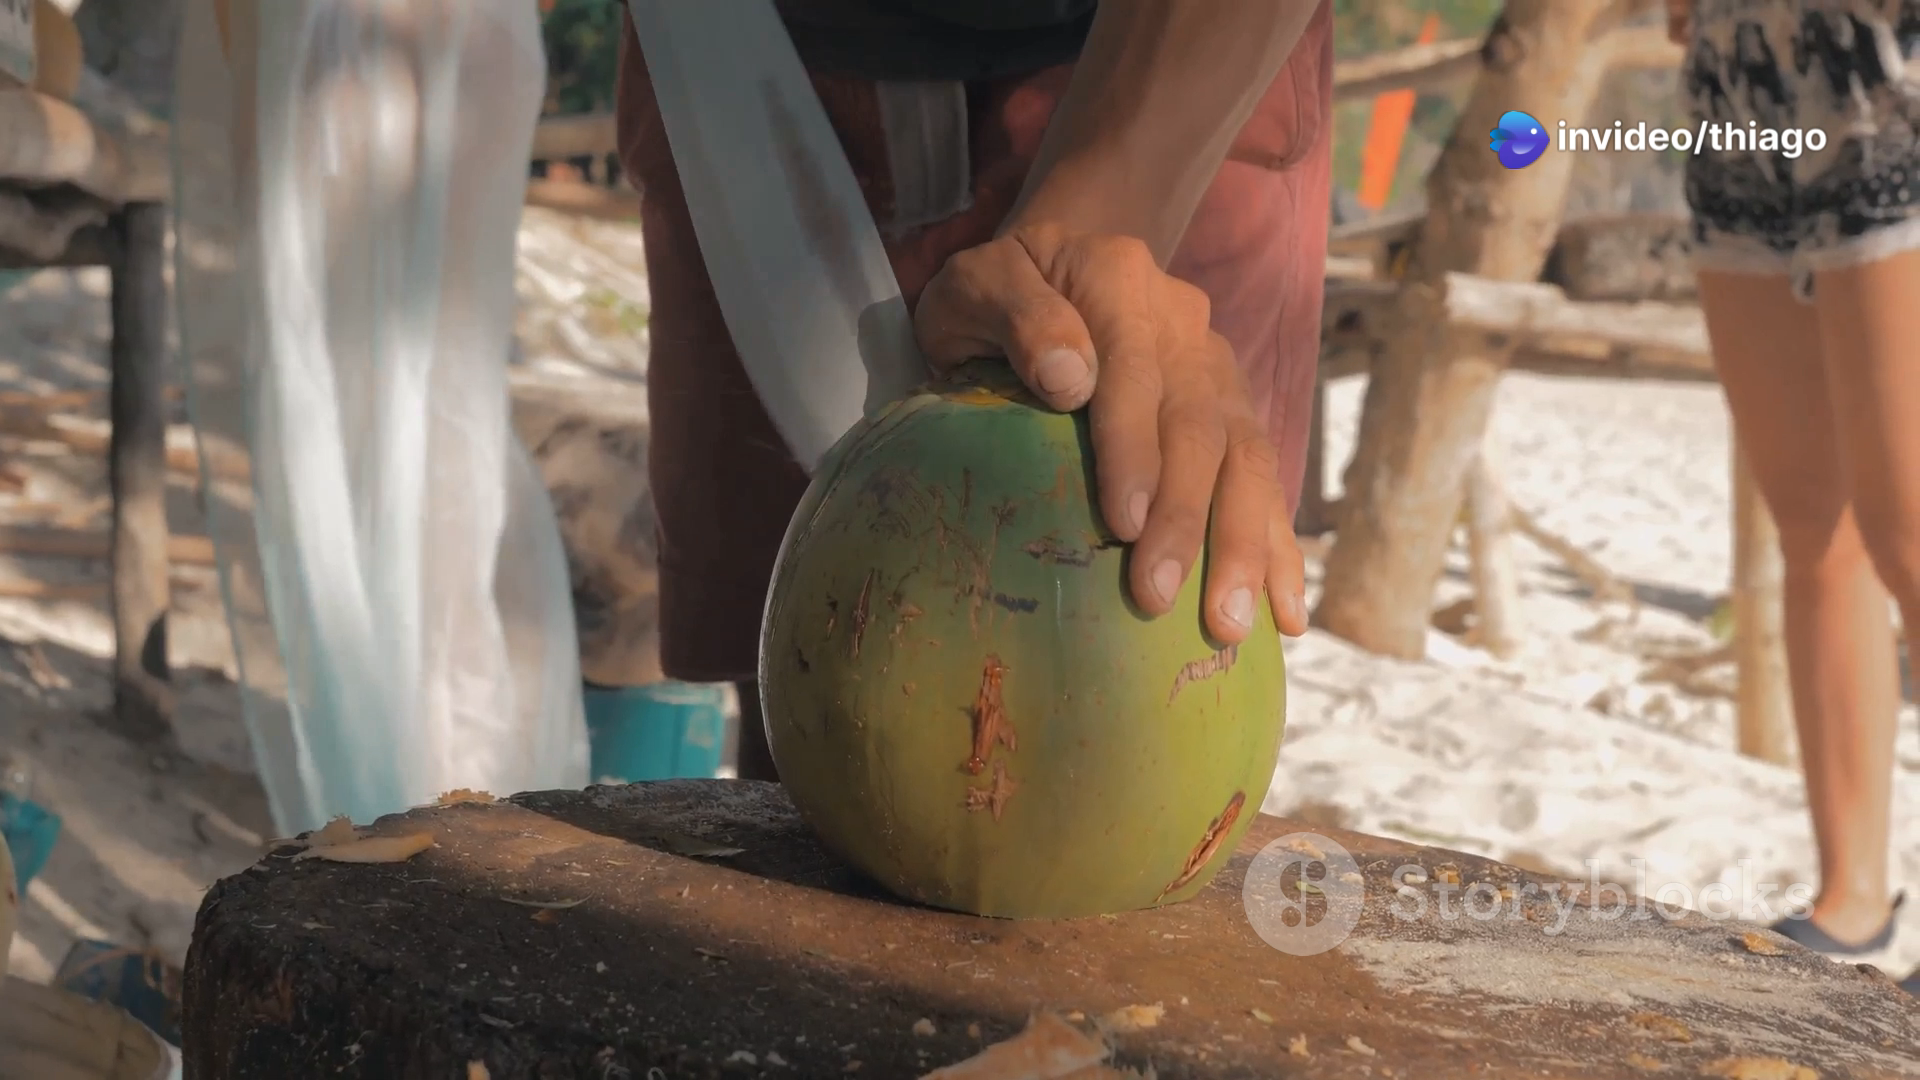cortante: (622, 0, 935, 483)
